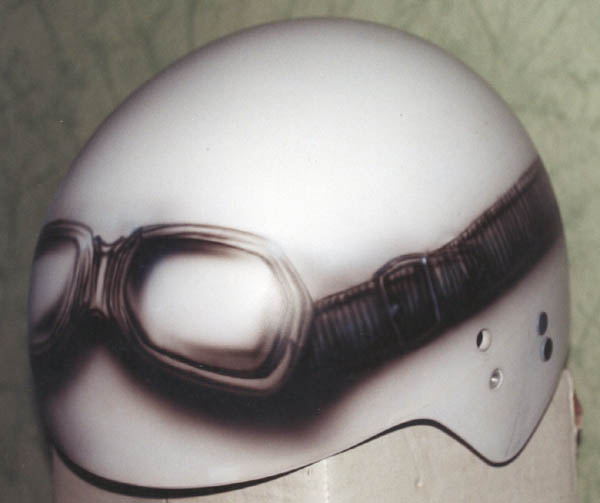helmet: (58, 36, 574, 464)
